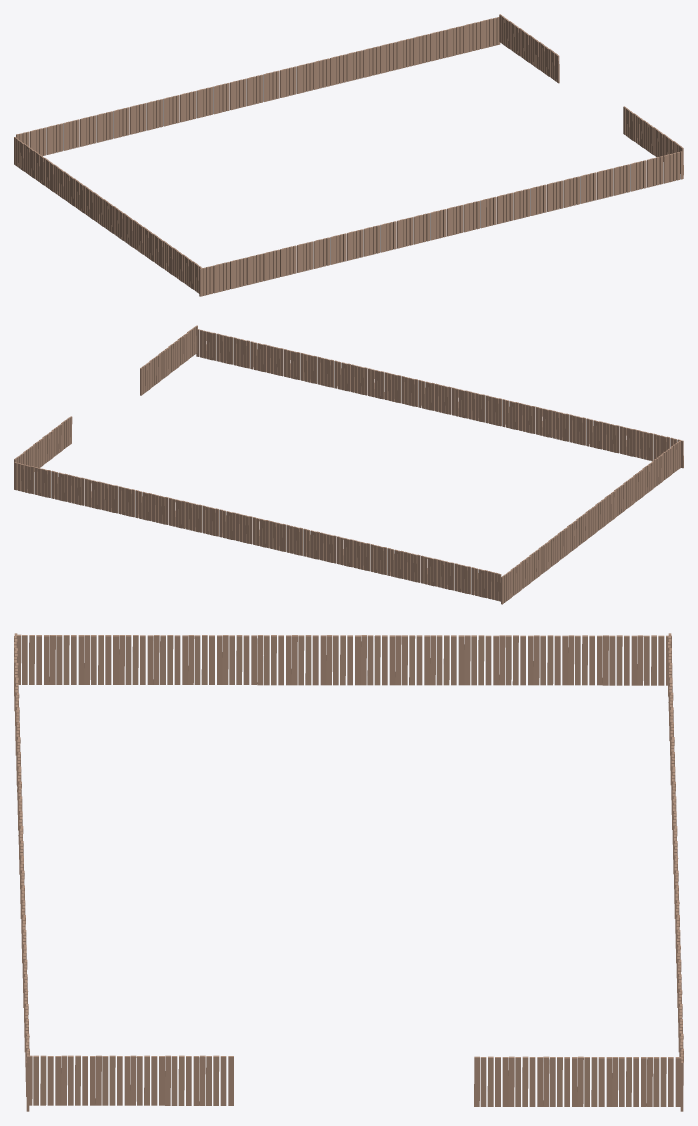
Rendered from TPCS_Zaun_002.fbx.
The picture shows the model from 3 angles, top to bottom: view 1: azimuth 30°, elevation 25°; view 2: azimuth 150°, elevation 25°; view 3: azimuth 270°, elevation 25°; orthographic projection. The views are drawn at different scales.
Visible parts, largest first — view 1: Cube.006; view 2: Cube.006; view 3: Cube.006.
Part boxes in pixels (box(x1,y1,x2,y2)): Cube.006: box(14, 14, 683, 296); Cube.006: box(14, 325, 683, 604); Cube.006: box(14, 633, 683, 1111).
Bounding box in the file's own units: 1599 × 96.18 × 1061.
